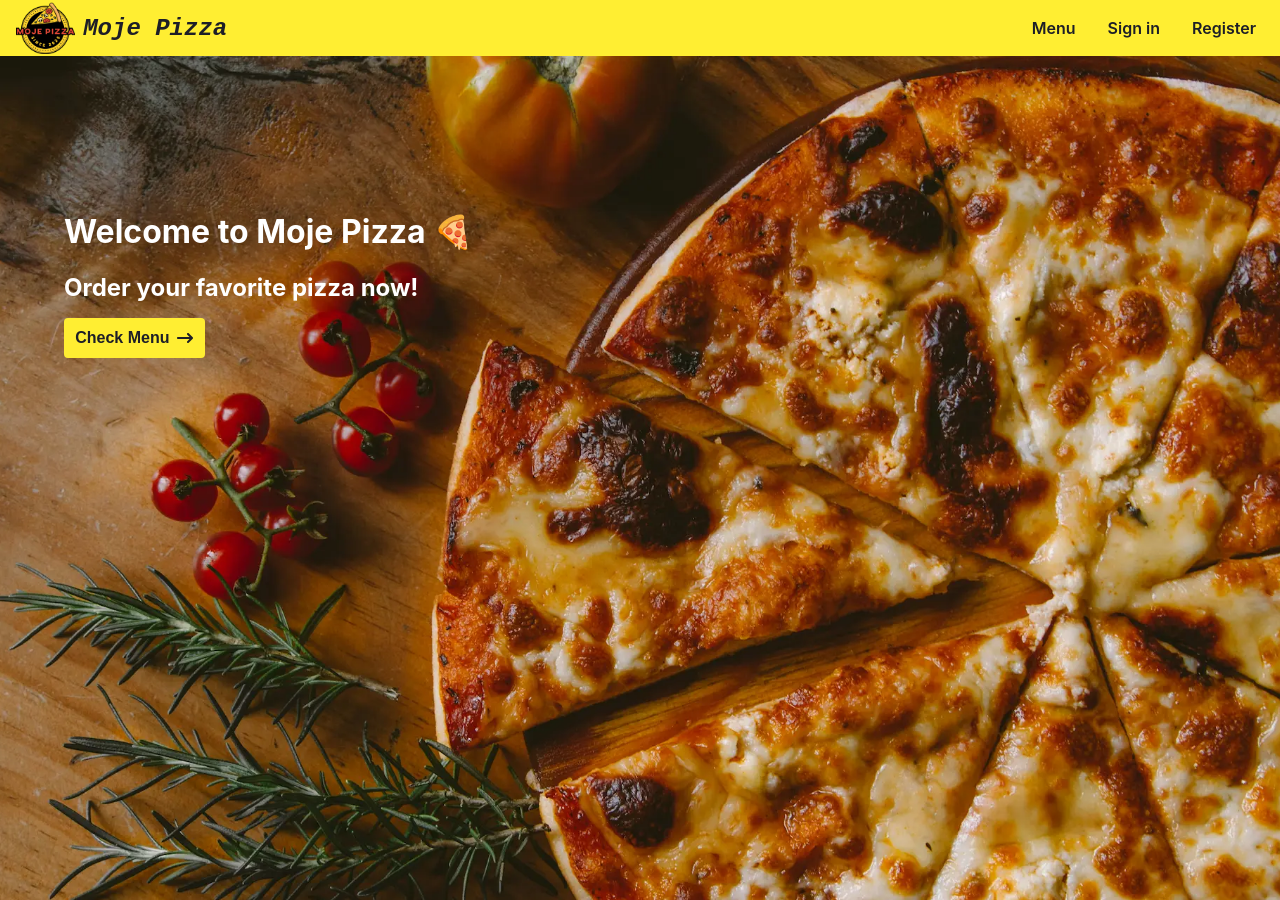
it: AppRoute - ROUTE › should render the Signup page when navigating to "/signup"
Click the link "Register" at coordinates (1224, 28), box [1192,18,1256,38]
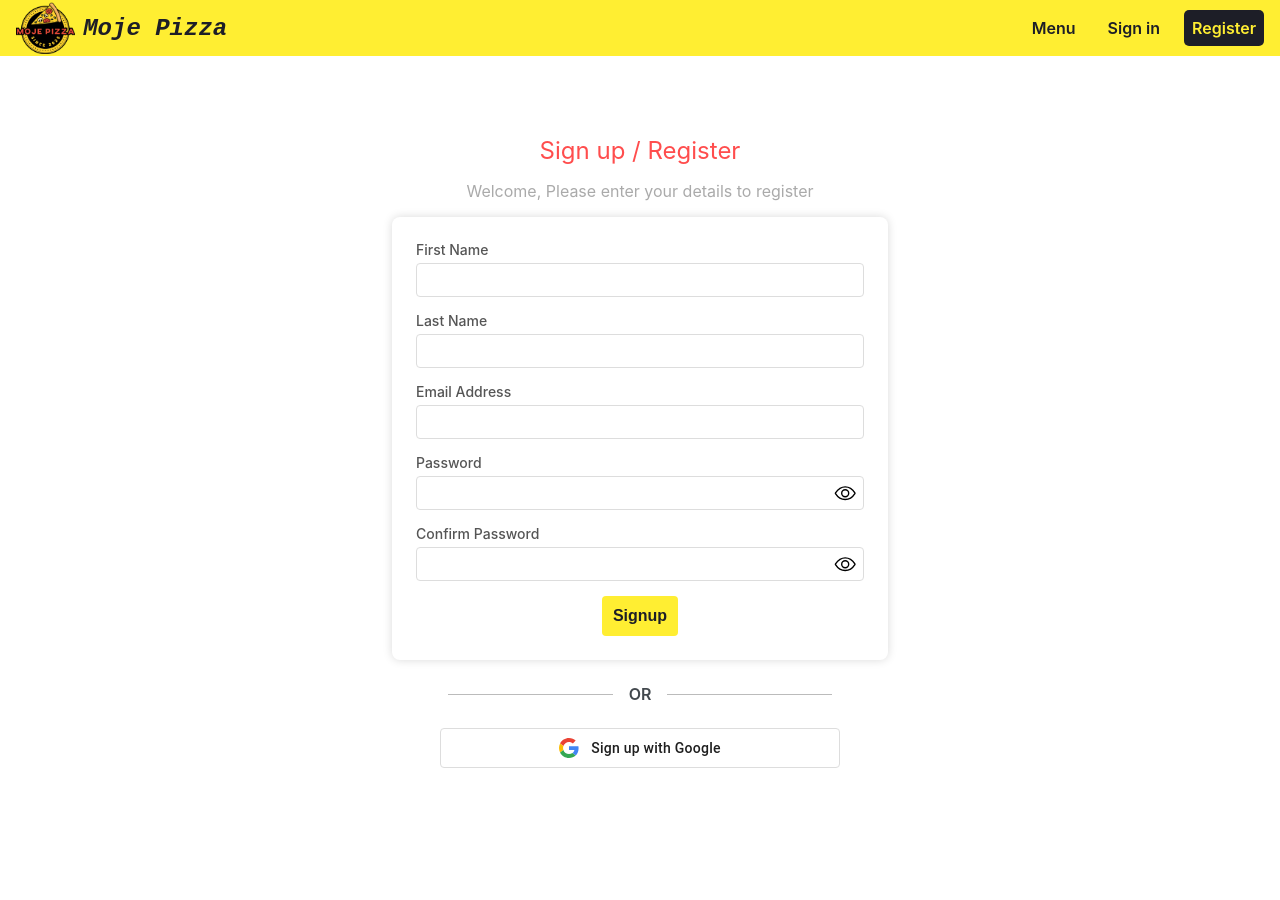
Expected: the text "Sign up / Register" is shown, [540,136,740,165]
